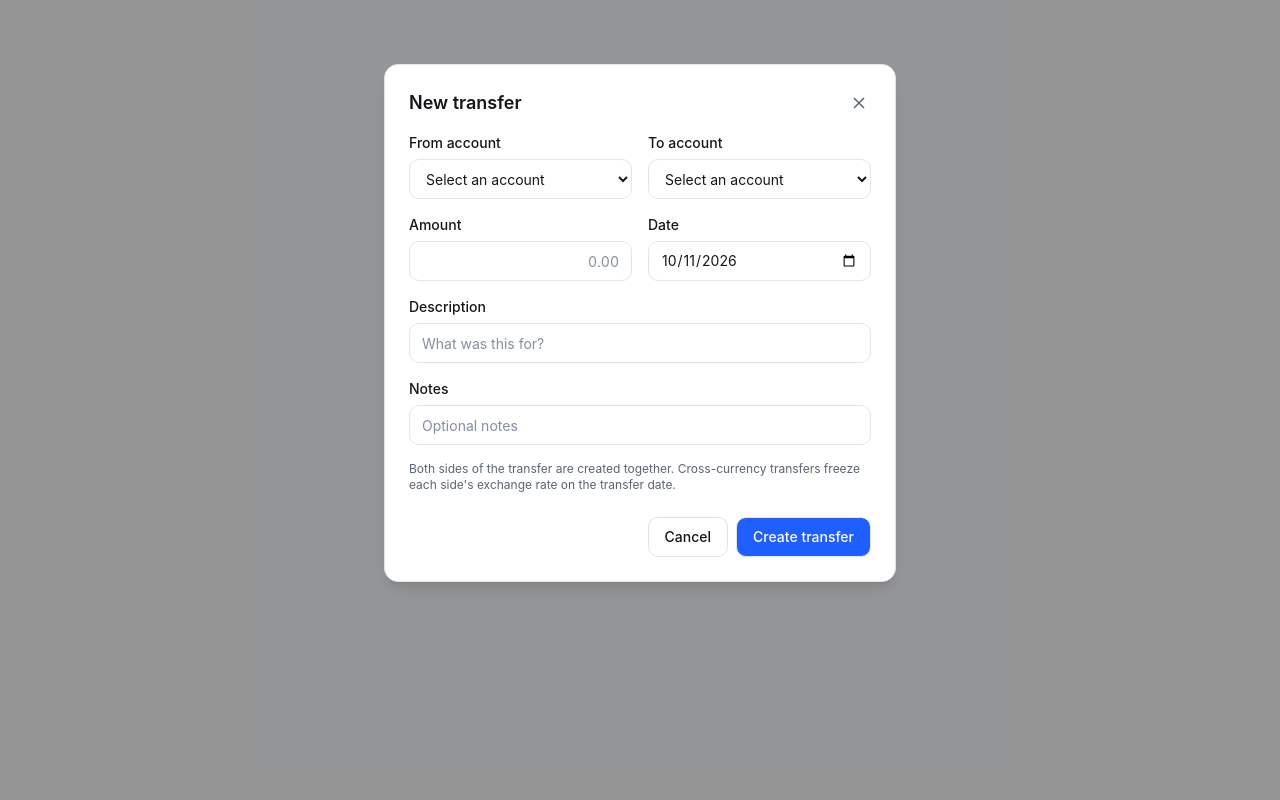
TransferFormModal › requires a positive amount
Select "Checking" in the dropdown labelled "From account" at (520, 179), box [409,159,632,199]
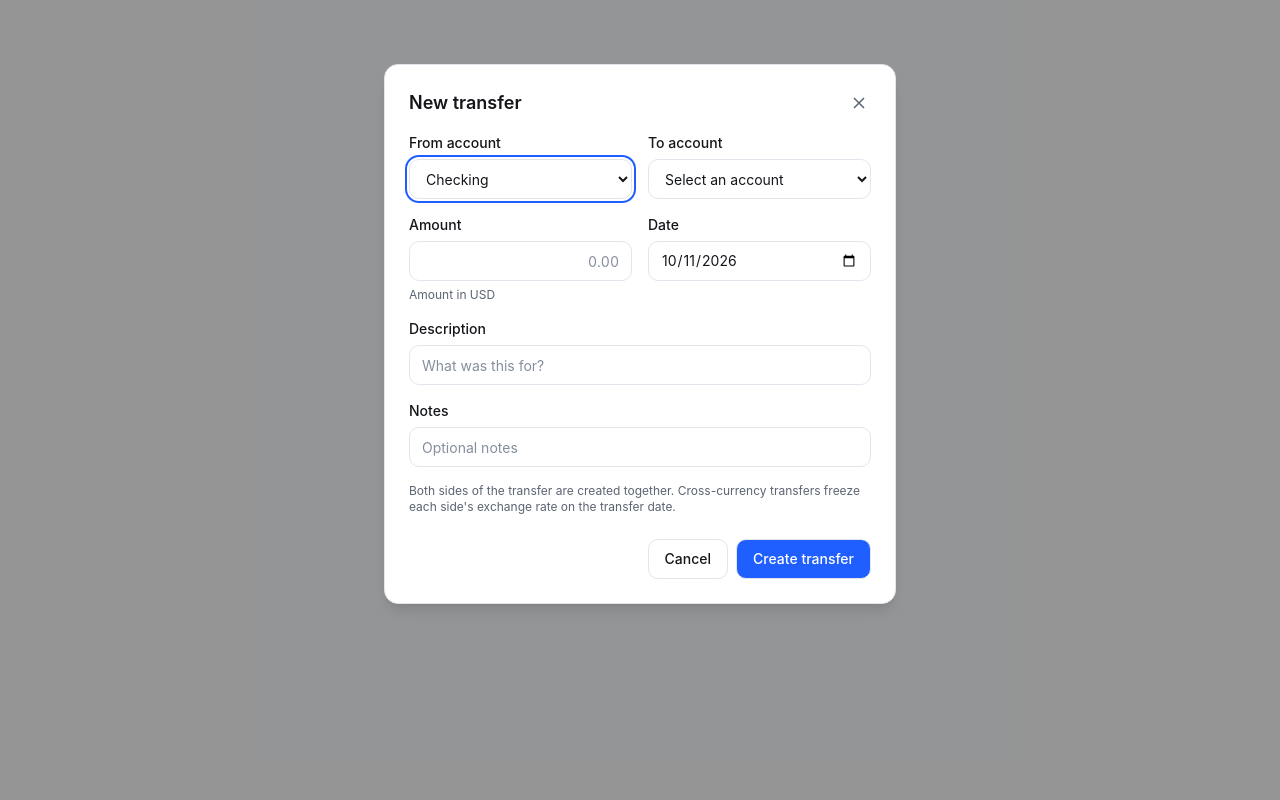
Select "Savings" in the dropdown labelled "To account" at (760, 179), box [648,159,871,199]
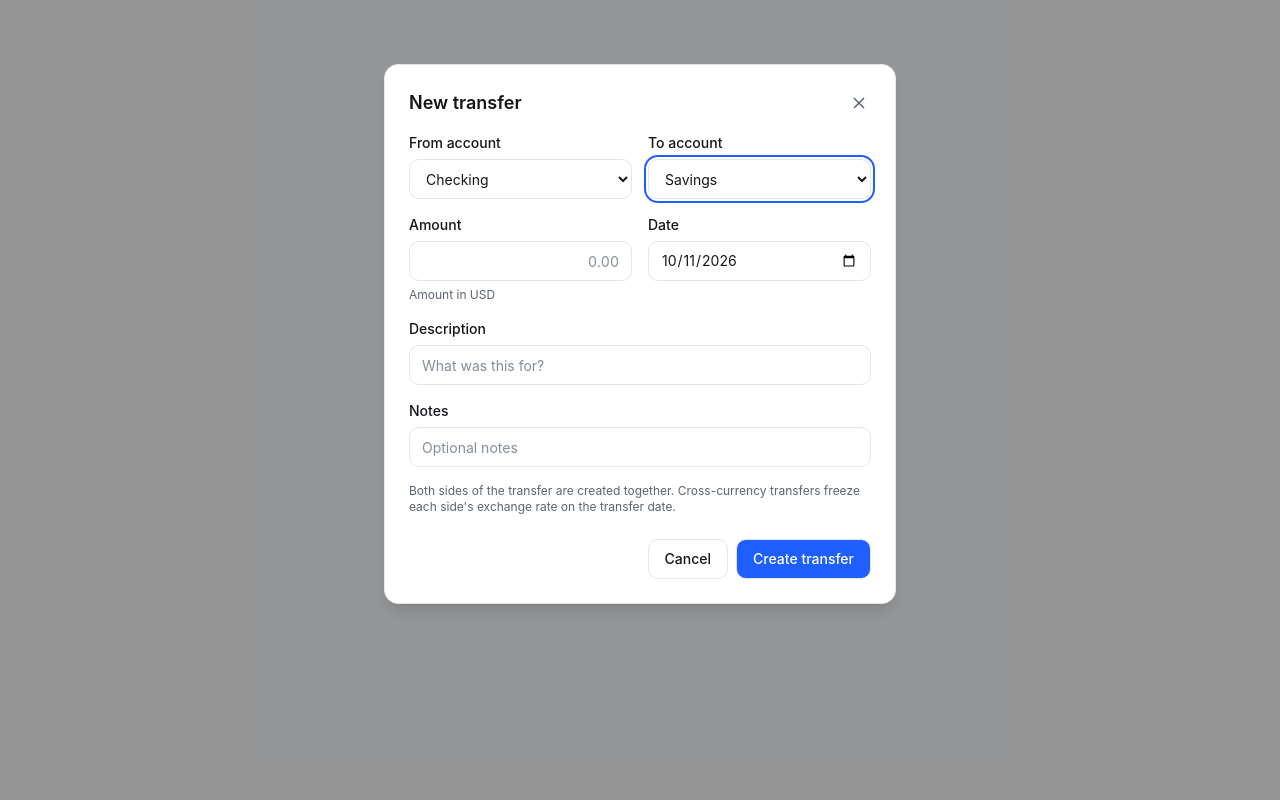
Click the button "Create transfer" at (804, 559), box [736,539,871,579]
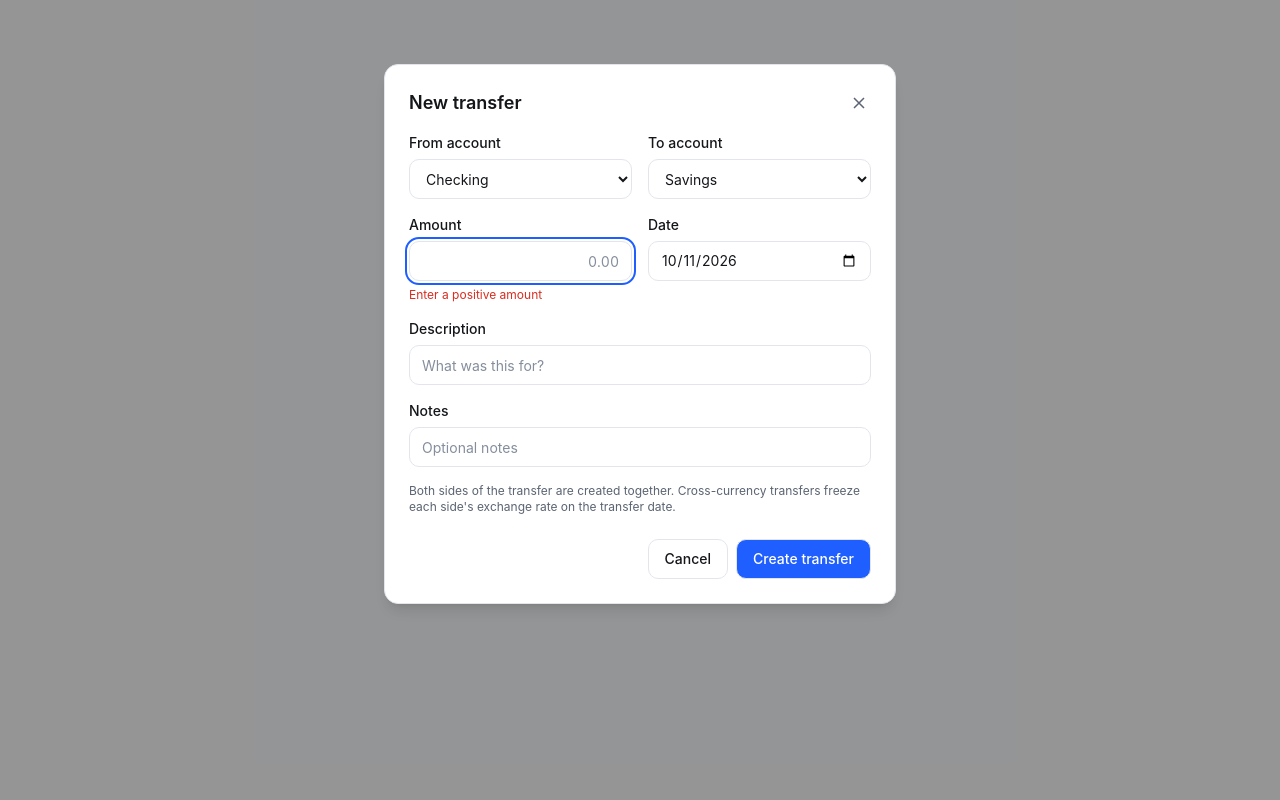
Check: the text "Enter a positive amount" is shown, box [409,287,542,302]
